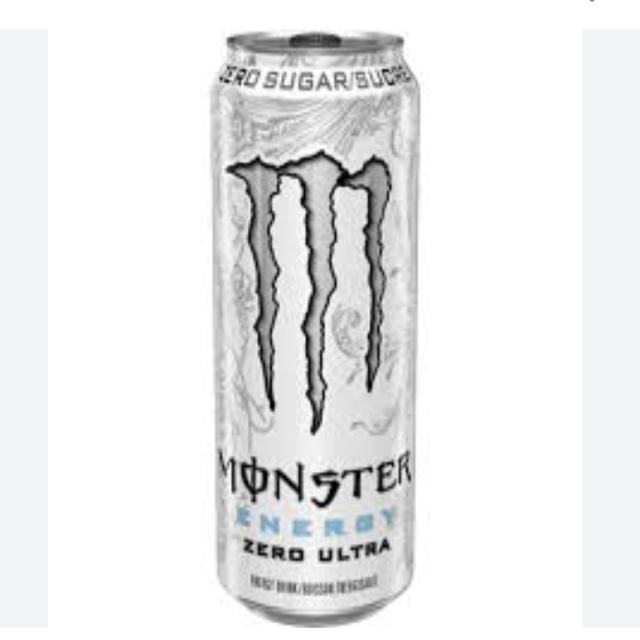recyclable: (178, 13, 442, 632)
